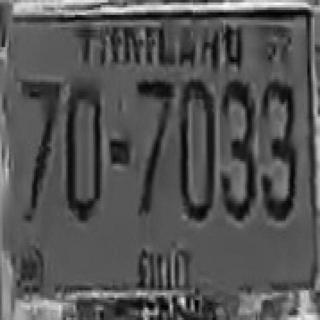N00: (64, 79, 101, 218), (178, 77, 214, 218)
N03: (259, 79, 297, 218), (218, 79, 254, 218)
N07: (21, 78, 60, 217), (136, 77, 174, 213), (21, 78, 60, 175)
P69: (131, 241, 196, 290)
